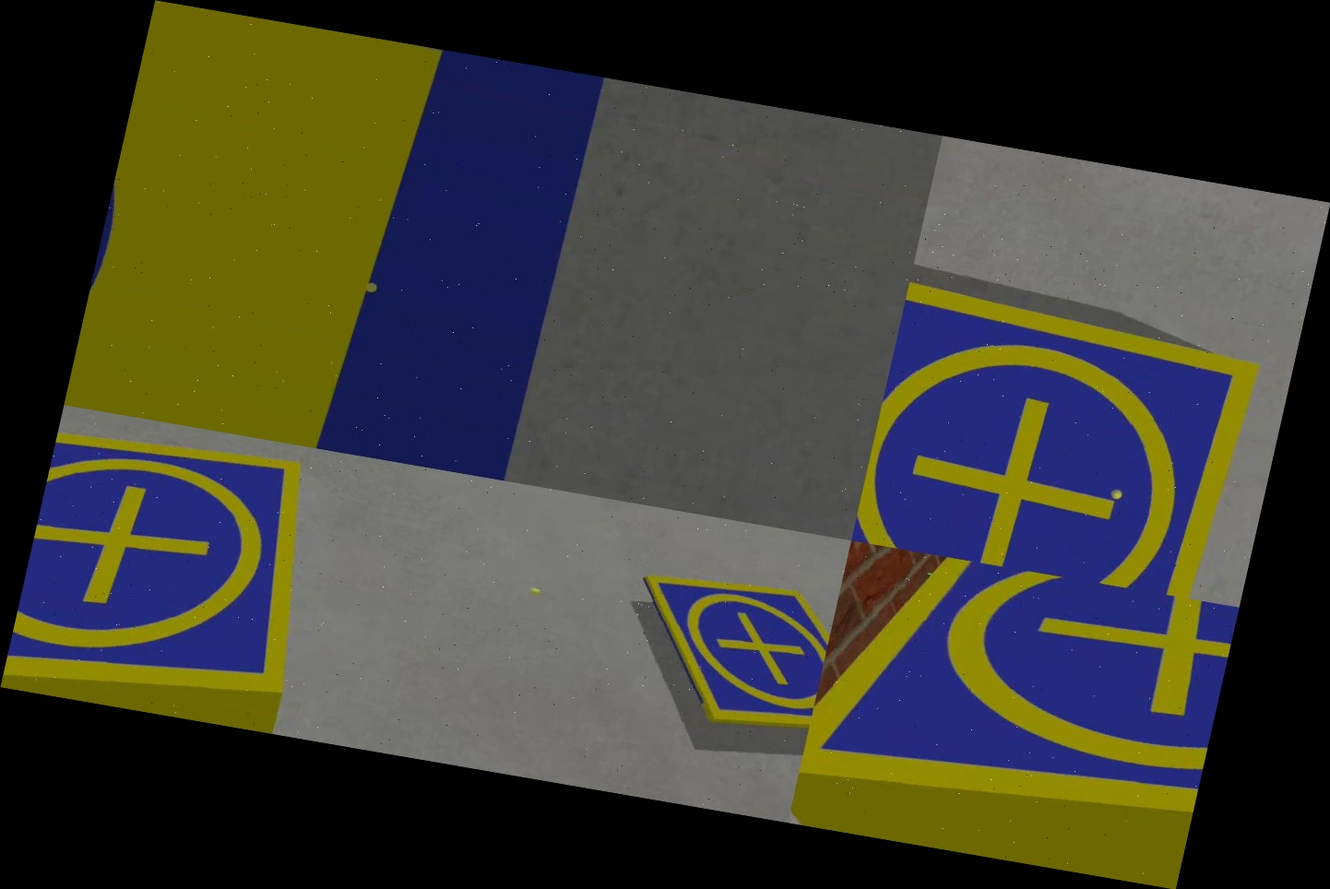large_base: (64, 0, 657, 492)
small_base: (788, 540, 1238, 889), (851, 268, 1276, 603), (0, 405, 362, 738), (602, 553, 840, 751)
